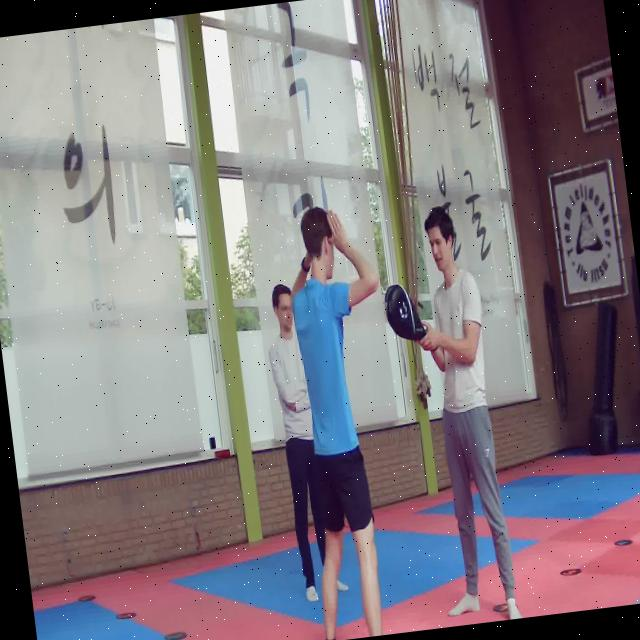paddle: (385, 286, 426, 342)
